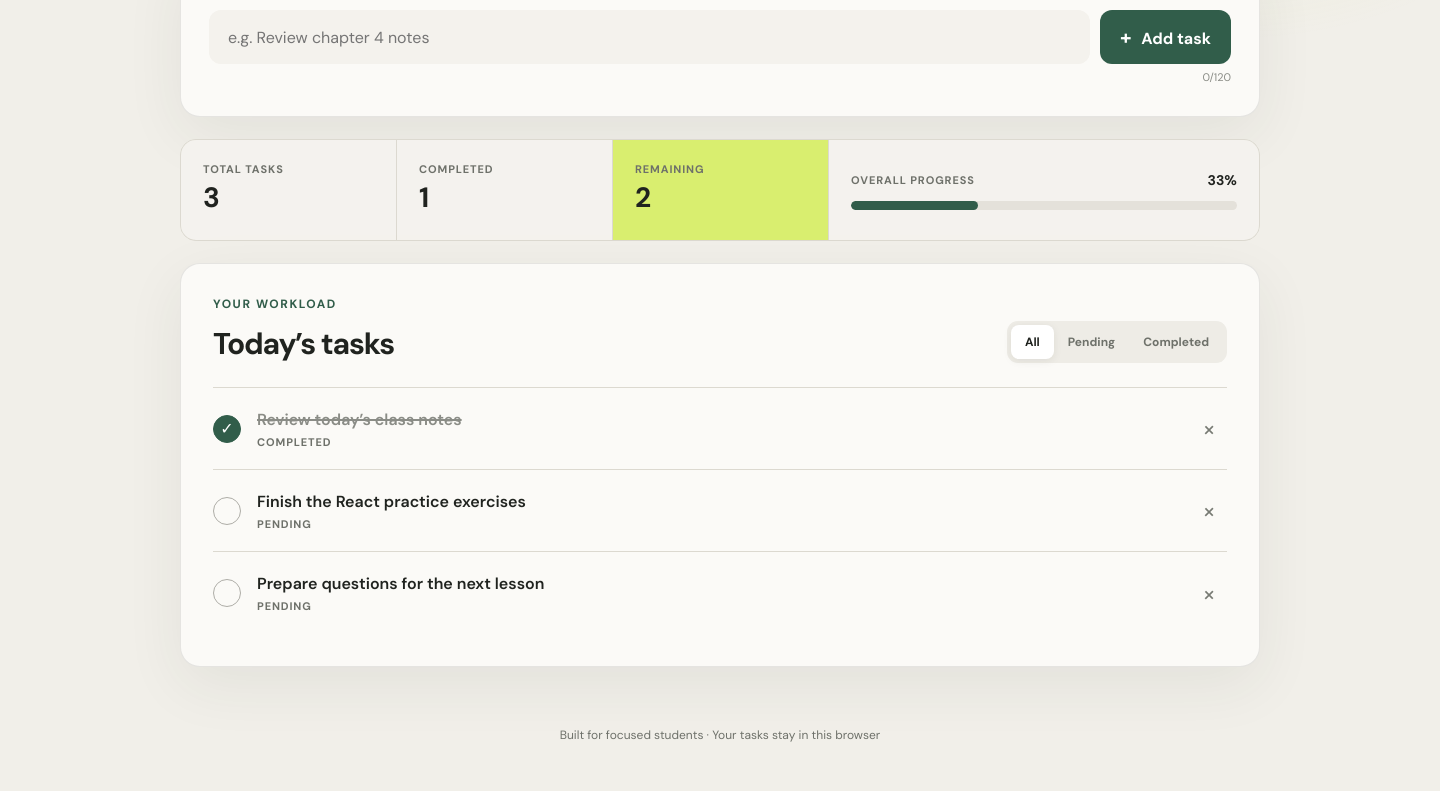
it: Student Task Manager › marks tasks complete and filters the list
(page scrolled)
Click the checkbox named "mark finish the react practice exercises as completed".
click(227, 510)  # box [213,496,241,524]
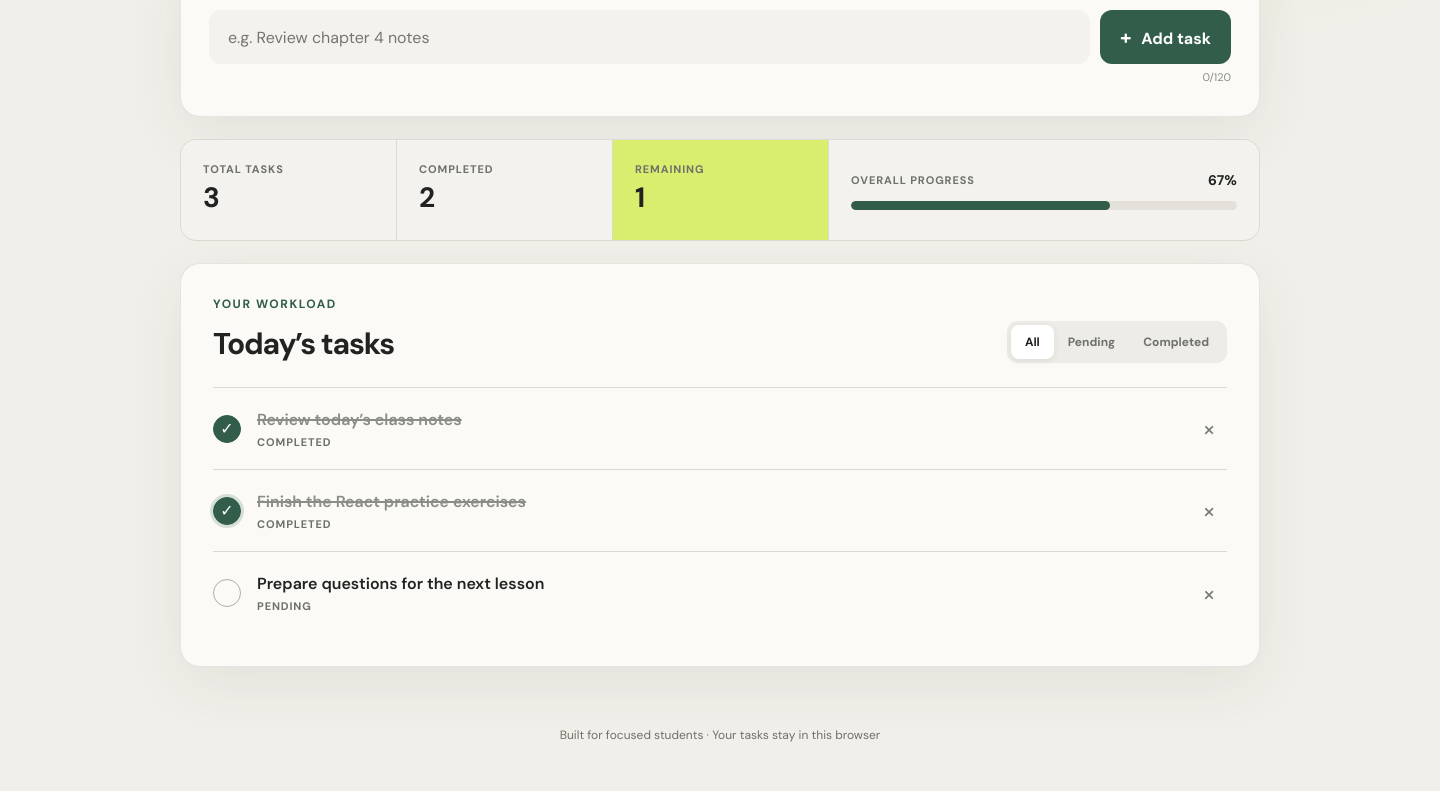
Click the button "completed".
click(1176, 342)  # box [1129,325,1223,359]
(page scrolled)
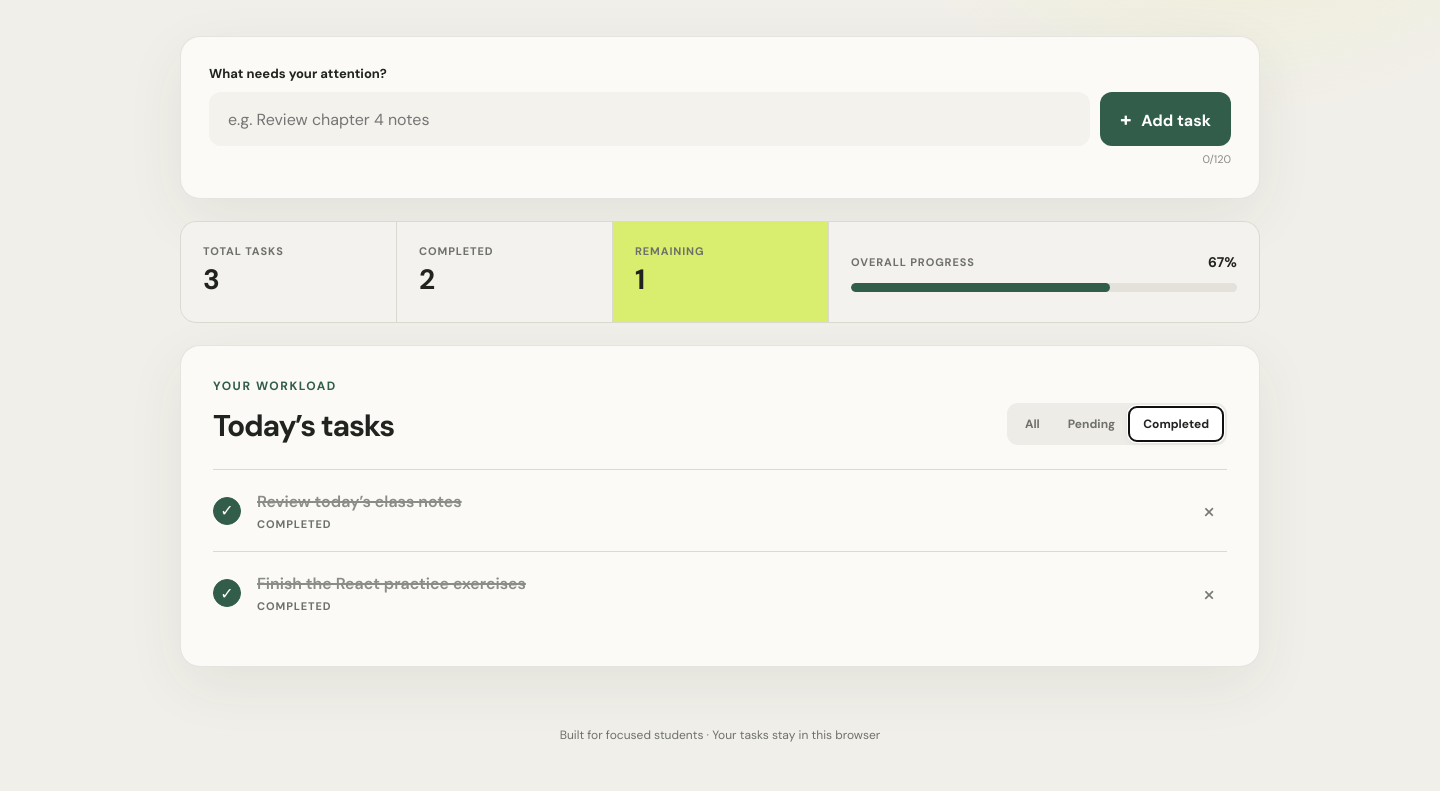
Expected: the text "Finish the React practice exercises" is shown, [257,573,526,594]
Expected: the text "Prepare questions for the next lesson" is gone
